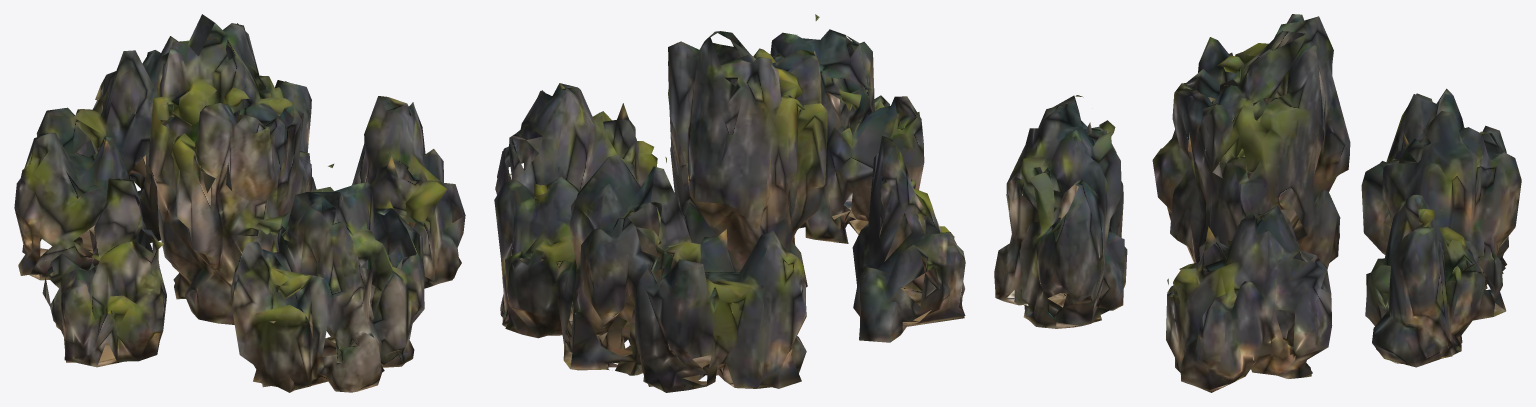
Rendered from sea-stacks.glb.
The picture shows the model from 3 angles, left to right: view 1: azimuth 30°, elevation 25°; view 2: azimuth 150°, elevation 25°; view 3: azimuth 270°, elevation 25°; orthographic projection. The views are drawn at different scales.
Visible parts, largest first — view 1: geometry_0; view 2: geometry_0; view 3: geometry_0.
Part boxes in pixels (x1,y1,x2,y2): geometry_0: (14,14,465,392); geometry_0: (494,14,965,392); geometry_0: (994,14,1521,392).
Size of the model in its own units: 1.54 by 1 by 1.69.
1 material, 1 textured.
